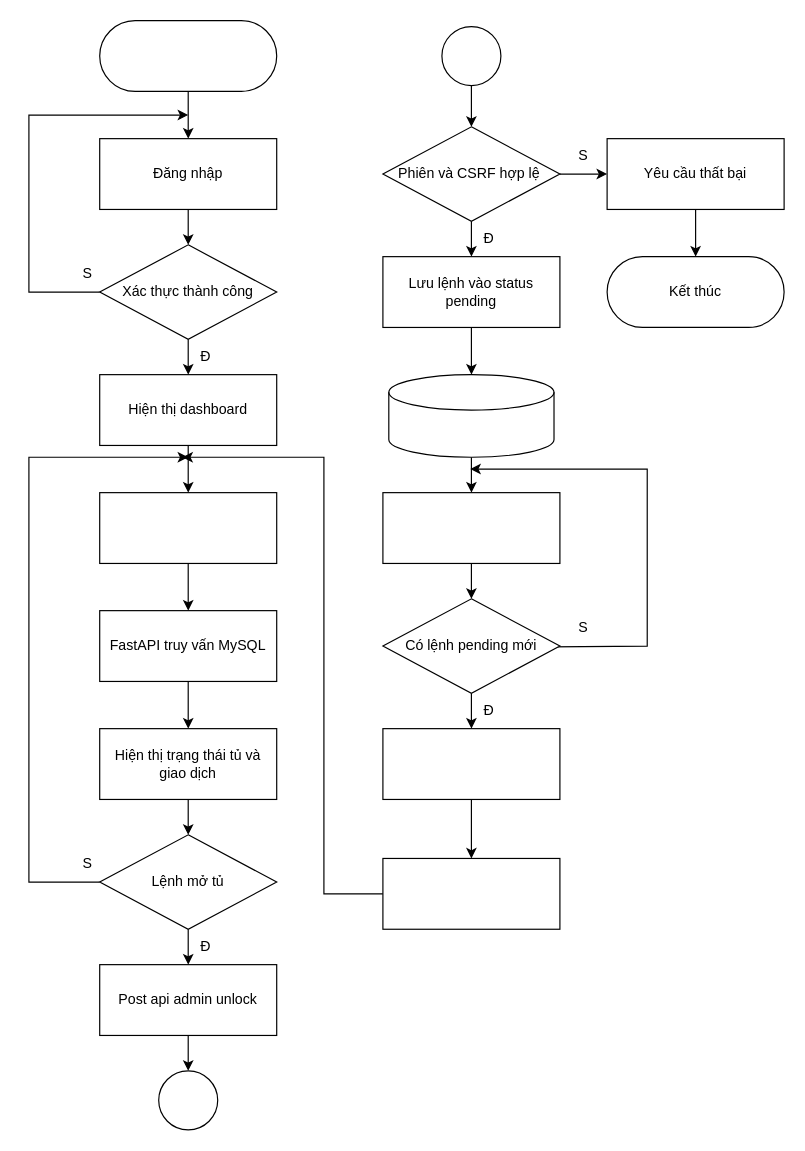
Some shapes in this 805 by 1151 pixel diagram are drawn without their labels. Here are the shapes that lost their labels. From the top down, the centre of each, then its label:
At point (188, 55): "Truy cập monitor".
At point (471, 415): "admin_commands".
At point (188, 527): "GET API admin monitor".
At point (471, 527): "Kisok kiểm tra admin command".
At point (471, 763): "Mở tủ qua MQTT".
At point (471, 893): "Cập nhật lệnh thành completed".
